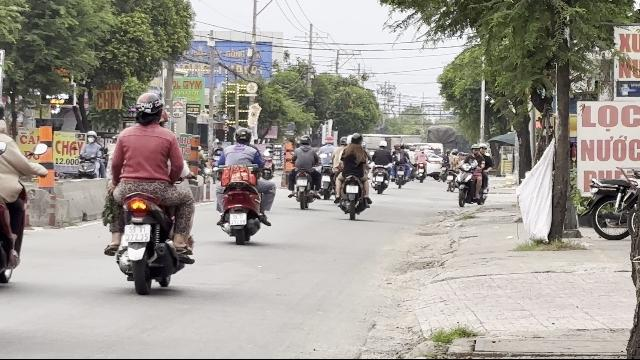helmet: (133, 91, 165, 125), (234, 127, 252, 144)
licenseplate: (124, 224, 150, 242), (230, 213, 246, 225)
motorcyclist: (98, 90, 198, 294), (213, 124, 273, 243)
